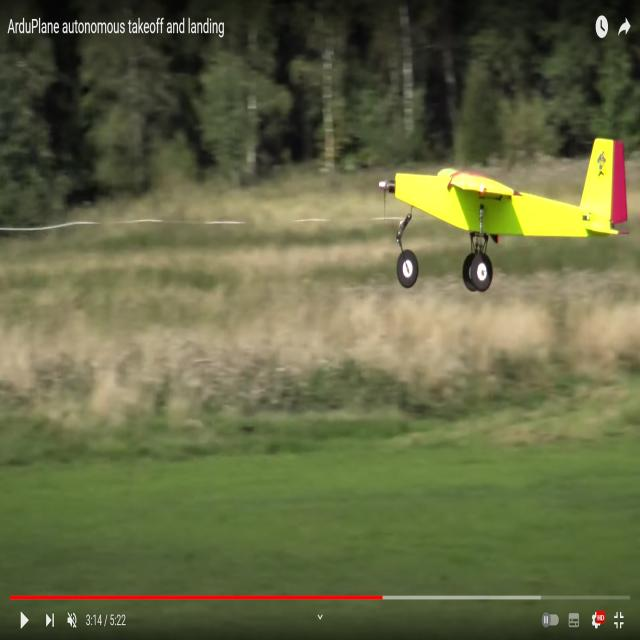iha: (379, 166, 626, 228)
